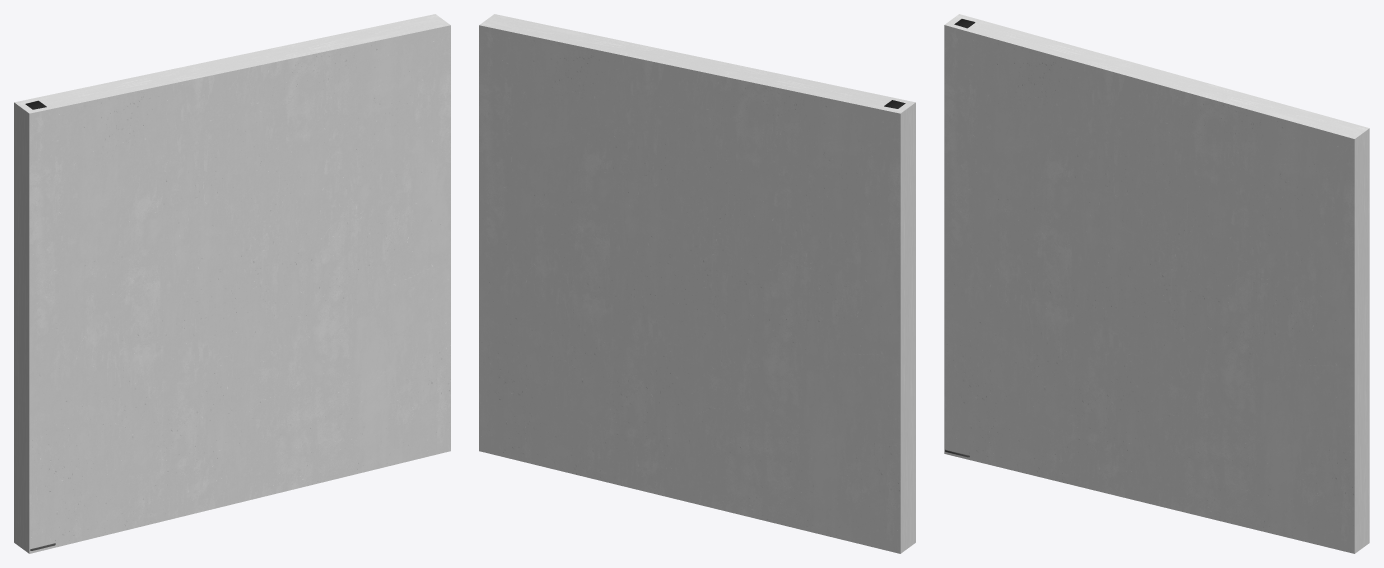
The model's file is si_grid_wall.DAE.
3 views of the same model, side by side, from view 1: azimuth 30°, elevation 25°; view 2: azimuth 150°, elevation 25°; view 3: azimuth 330°, elevation 25° (orthographic). The views are drawn at different scales.
Parts seen in each view (by area): view 1: Colmesh-1; view 2: Colmesh-1; view 3: Colmesh-1.
Part boxes in pixels (box(x1,y1,x2,y2)): Colmesh-1: box(14, 14, 450, 553); Colmesh-1: box(479, 14, 915, 553); Colmesh-1: box(944, 14, 1369, 553).
Size of the model in its own units: 233 by 15.27 by 233.
